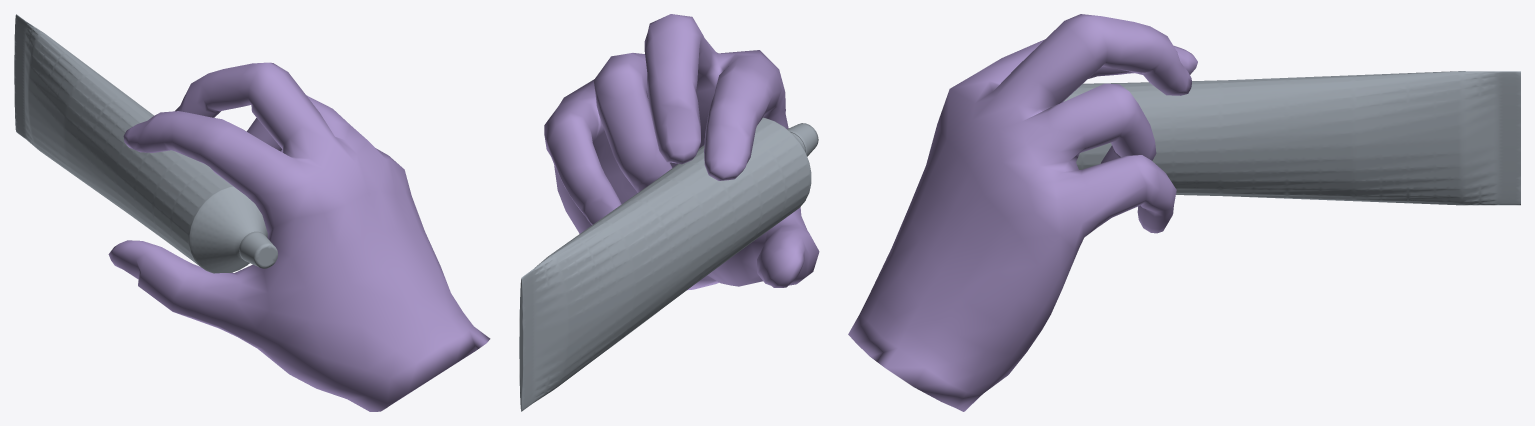
File: ours_2.glb
The picture shows the model from 3 angles, left to right: view 1: azimuth 30°, elevation 25°; view 2: azimuth 150°, elevation 25°; view 3: azimuth 270°, elevation 25°; orthographic projection. The views are drawn at different scales.
Bounding box in the file's own units: 0.1306 × 0.1359 × 0.2397.
